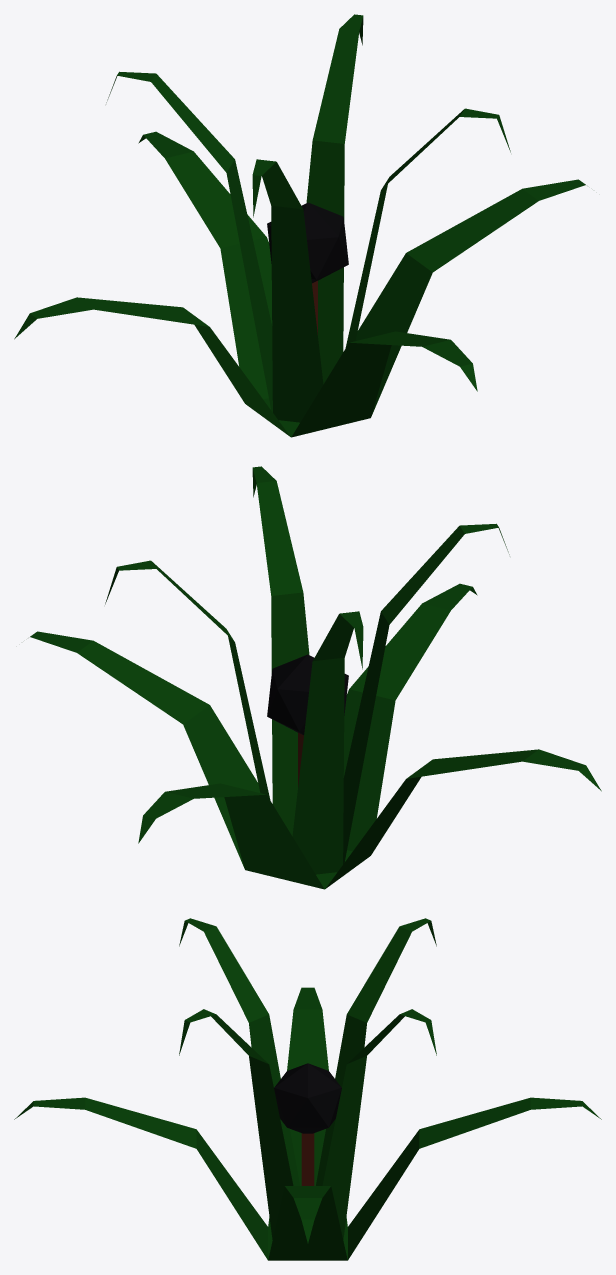
Rendered from testPlant.obj.
3 renders of one model, top to bottom at view 1: azimuth 30°, elevation 25°; view 2: azimuth 150°, elevation 25°; view 3: azimuth 270°, elevation 25°, orthographic. The views are drawn at different scales.
Visible parts, largest first — view 1: Plane.002, Plane.001, Plane, Plane.003, Icosphere_Icosphere.001; view 2: Plane.003, Plane.001, Plane, Plane.002, Icosphere_Icosphere.001; view 3: Plane.001, Plane, Plane.003, Plane.002, Icosphere_Icosphere.001, Cube_Cube.001.
Boxes of the visible parts, x1=… form: Plane.002: x1=252, y1=14, x2=363, y2=422; Plane.001: x1=138, y1=131, x2=477, y2=437; Plane: x1=14, y1=179, x2=585, y2=437; Plane.003: x1=106, y1=71, x2=510, y2=412; Icosphere_Icosphere.001: x1=267, y1=202, x2=348, y2=283; Plane.003: x1=252, y1=466, x2=363, y2=874; Plane.001: x1=138, y1=583, x2=477, y2=889; Plane: x1=30, y1=631, x2=601, y2=889; Plane.002: x1=105, y1=523, x2=509, y2=864; Icosphere_Icosphere.001: x1=267, y1=654, x2=348, y2=735; Plane.001: x1=14, y1=1097, x2=601, y2=1259; Plane: x1=268, y1=987, x2=347, y2=1260; Plane.003: x1=179, y1=918, x2=436, y2=1239; Plane.002: x1=179, y1=918, x2=436, y2=1239; Icosphere_Icosphere.001: x1=274, y1=1063, x2=341, y2=1133; Cube_Cube.001: x1=301, y1=1133, x2=314, y2=1185.
Size of the model in its own units: 14.75 by 7.57 by 14.75.
